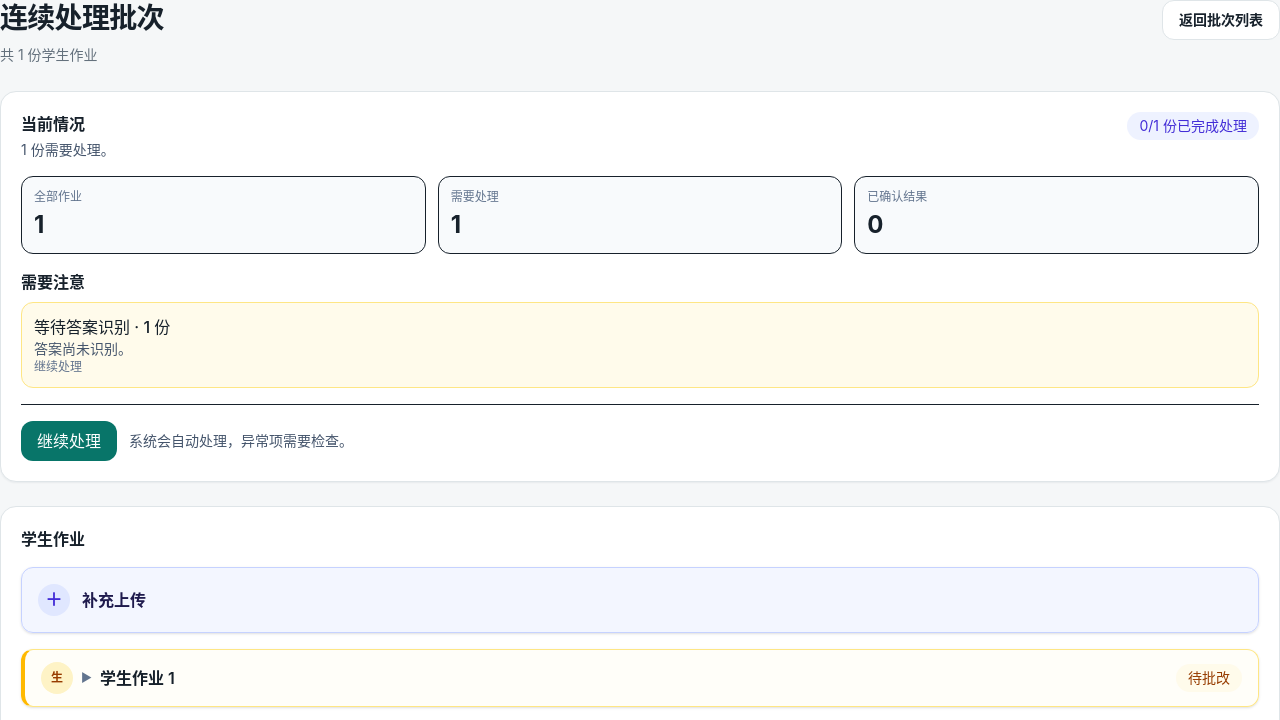
Scenario: starts one server-side plan and labels Codex output as suggestion-only
Click the button with test id "continue-processing-to-teacher-review" at (69,441), box [21, 421, 117, 461]
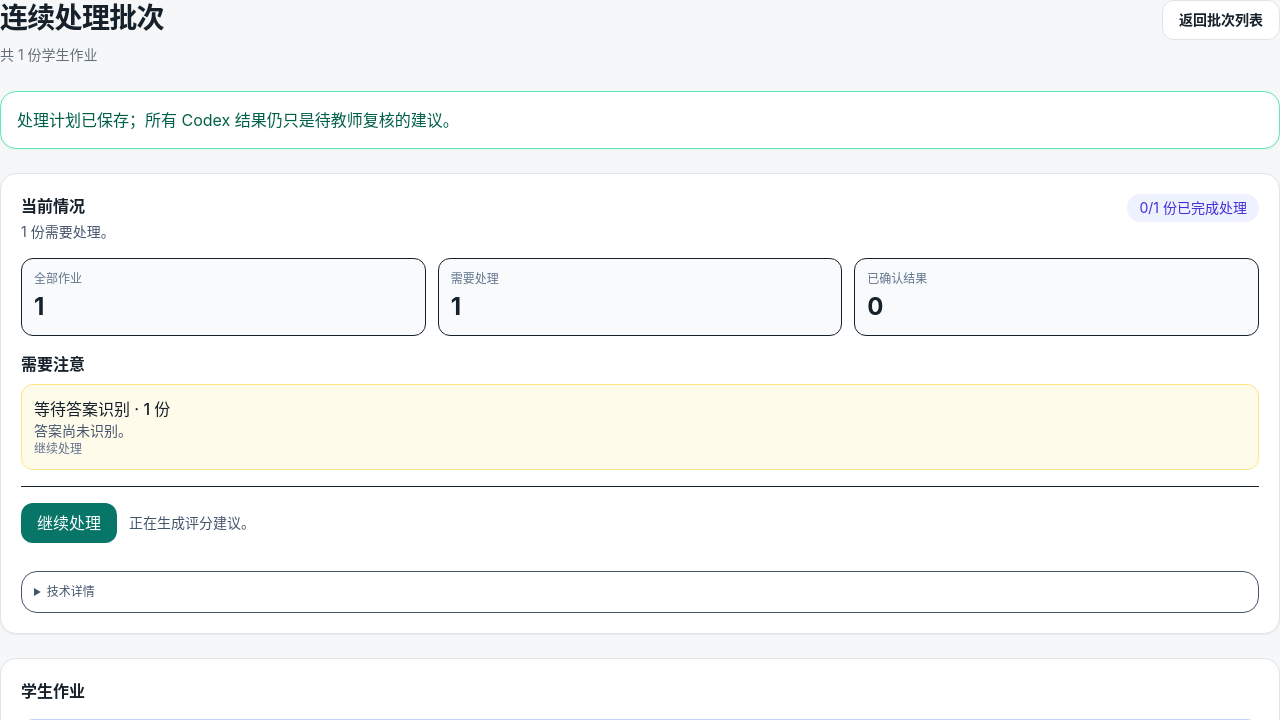
Now the heading "技术详情" is shown, box [47, 584, 95, 599]
